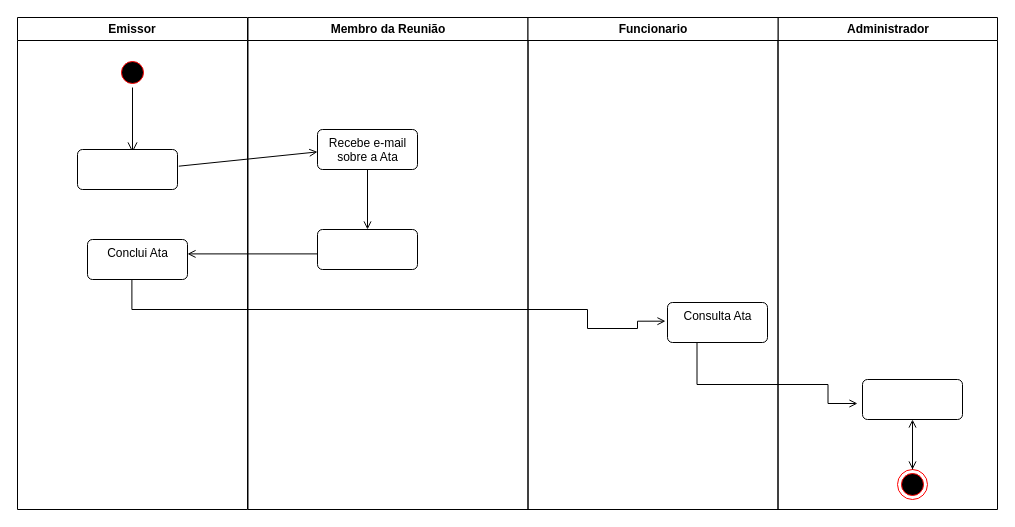
Some shapes in this 1015 by 527 pixel diagram are drawn without their labels. Each missing label, with the centre of its shape:
Emite Ata: [127,169]
Emite Relatório: [912,399]
Emite Sugestão para a Ata: [367,249]
